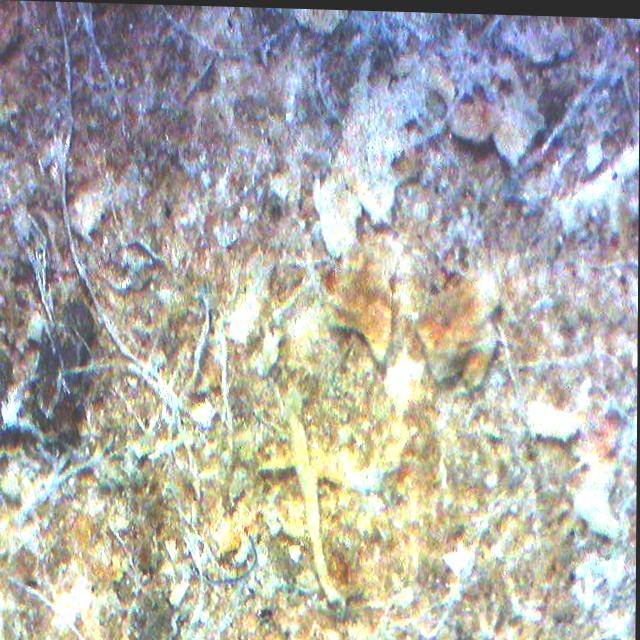microplastic: (192, 533, 259, 583)
